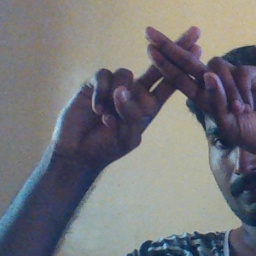F: (99, 18, 247, 133)
